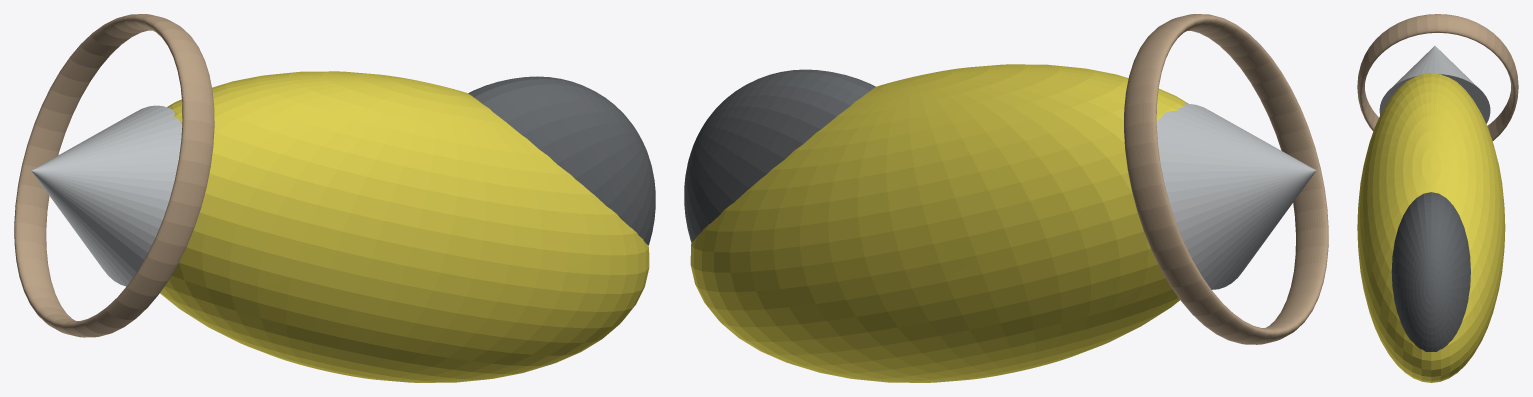
File: Terrific Esboo-Sango (5).glb
3 renders of one model, left to right at view 1: azimuth 30°, elevation 25°; view 2: azimuth 150°, elevation 25°; view 3: azimuth 270°, elevation 25°, orthographic. The views are drawn at different scales.
Parts seen in each view (by area): view 1: Mesh_Mesh_head_geo.001_lambert2SG.001; view 2: Mesh_Mesh_head_geo.001_lambert2SG.001; view 3: Mesh_Mesh_head_geo.001_lambert2SG.001.
Part boxes in pixels (x1,y1,x2,y2): Mesh_Mesh_head_geo.001_lambert2SG.001: (14,14,655,382); Mesh_Mesh_head_geo.001_lambert2SG.001: (684,14,1328,382); Mesh_Mesh_head_geo.001_lambert2SG.001: (1357,14,1518,382).
Size of the model in its own units: 0.0342 by 0.0224 by 0.013.
